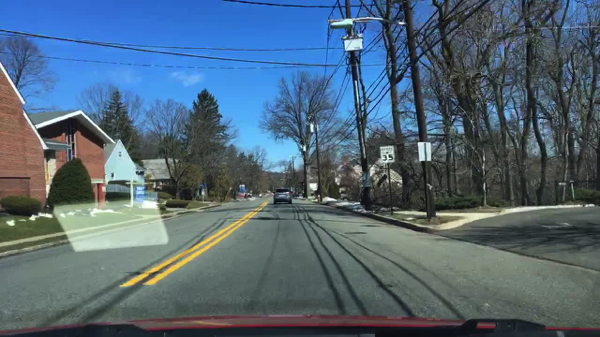car: (272, 187, 292, 205)
traffic sign: (418, 141, 431, 162), (380, 147, 394, 162), (239, 184, 246, 191)
